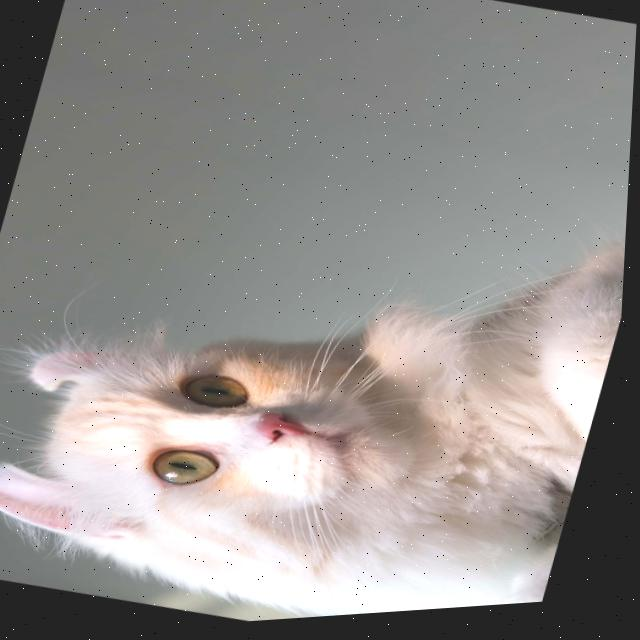American Curl: (0, 85, 635, 640)
